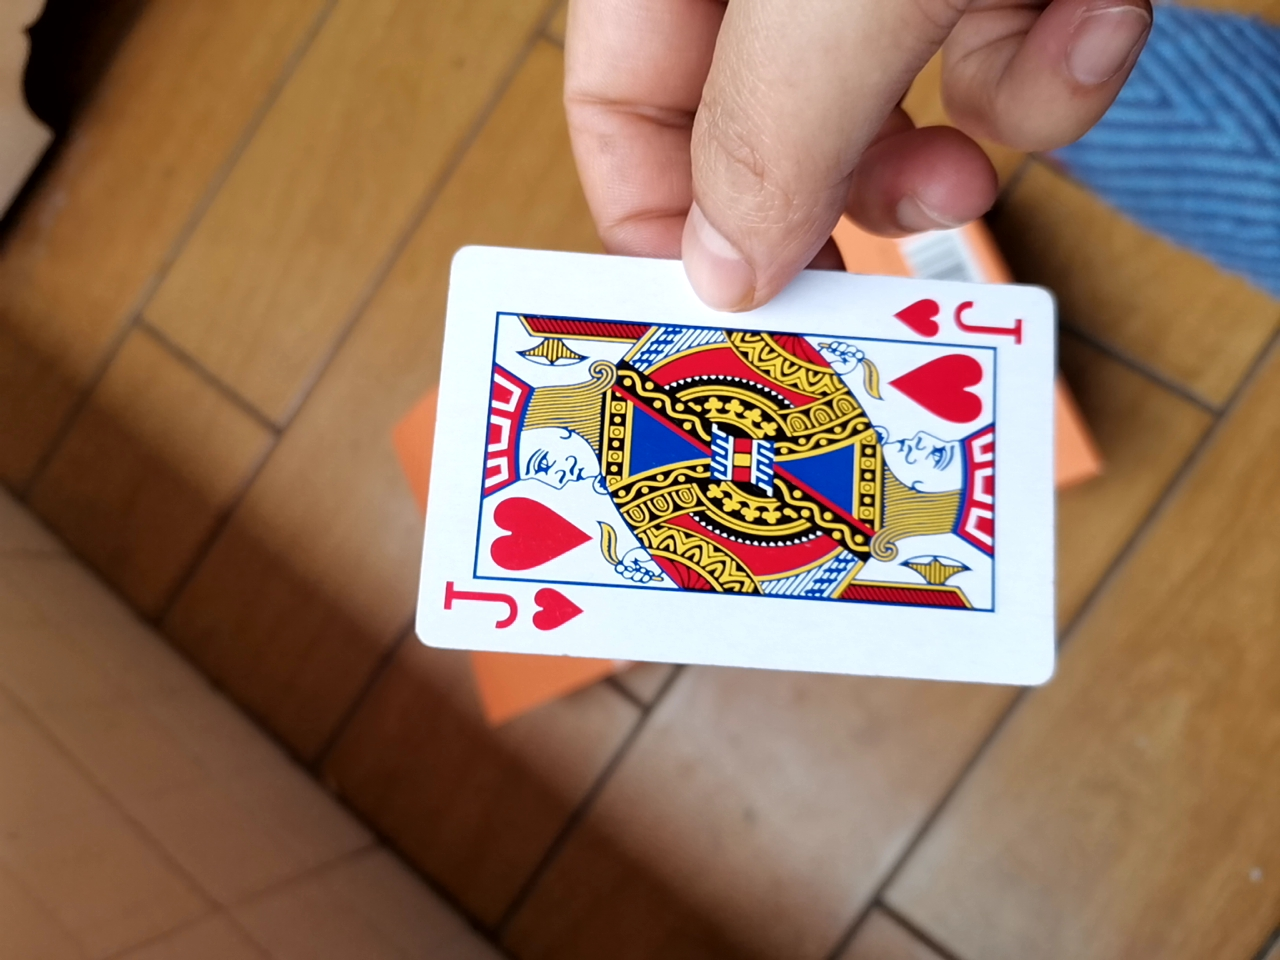hx j: (392, 240, 1070, 691)
